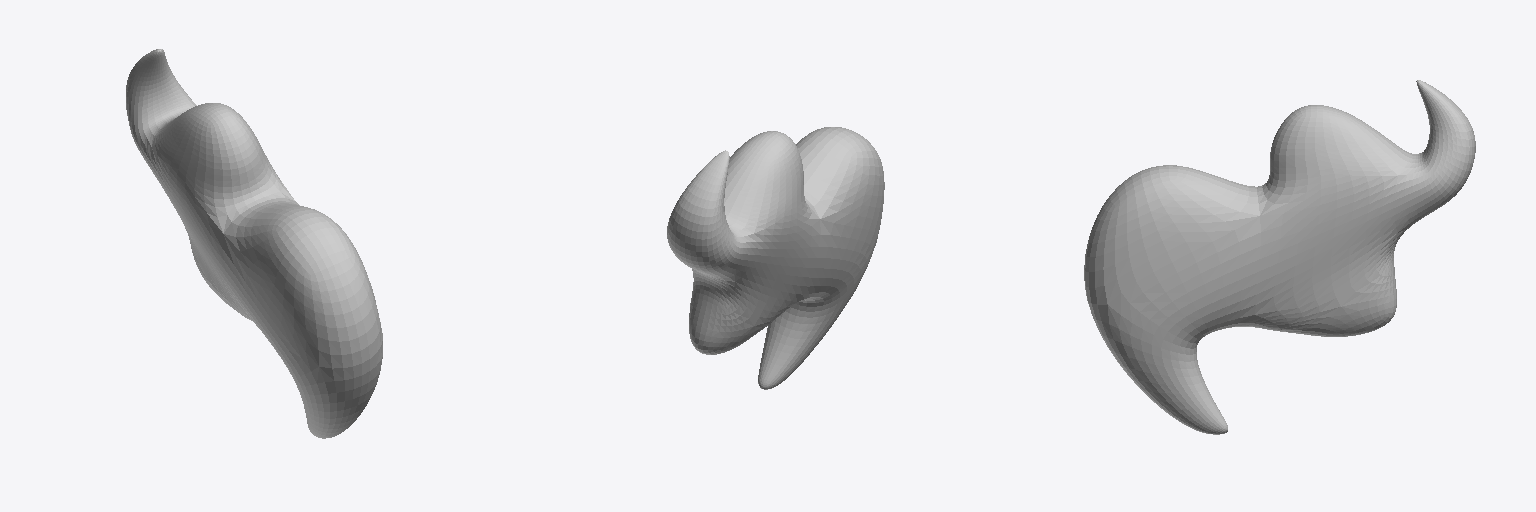
File: fluffy-cloud-tail.obj
3 views of the same model, side by side, from view 1: azimuth 30°, elevation 25°; view 2: azimuth 150°, elevation 25°; view 3: azimuth 270°, elevation 25° (orthographic).
Visible parts, largest first — view 1: _SMD_root_; view 2: _SMD_root_; view 3: _SMD_root_.
Part boxes in pixels (x1,y1,x2,y2): _SMD_root_: (126,49,382,438); _SMD_root_: (667,127,884,389); _SMD_root_: (1084,80,1475,434).
Size of the model in its own units: 0.0564 by 0.172 by 0.188.